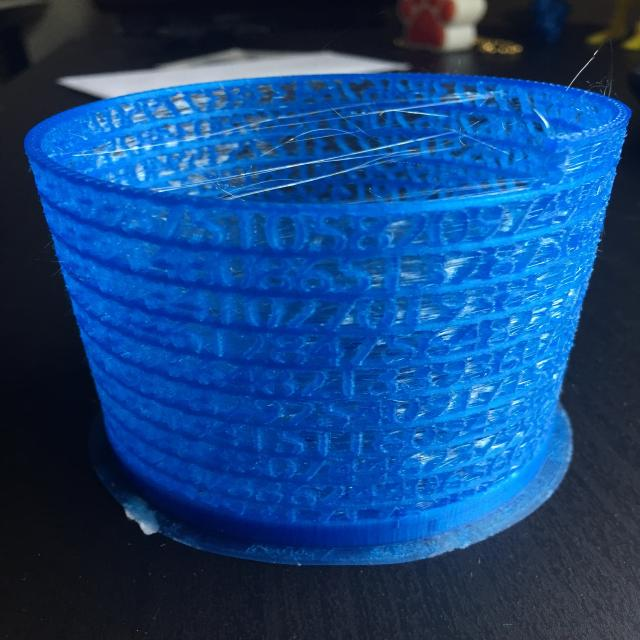Stringing: (110, 87, 552, 196)
